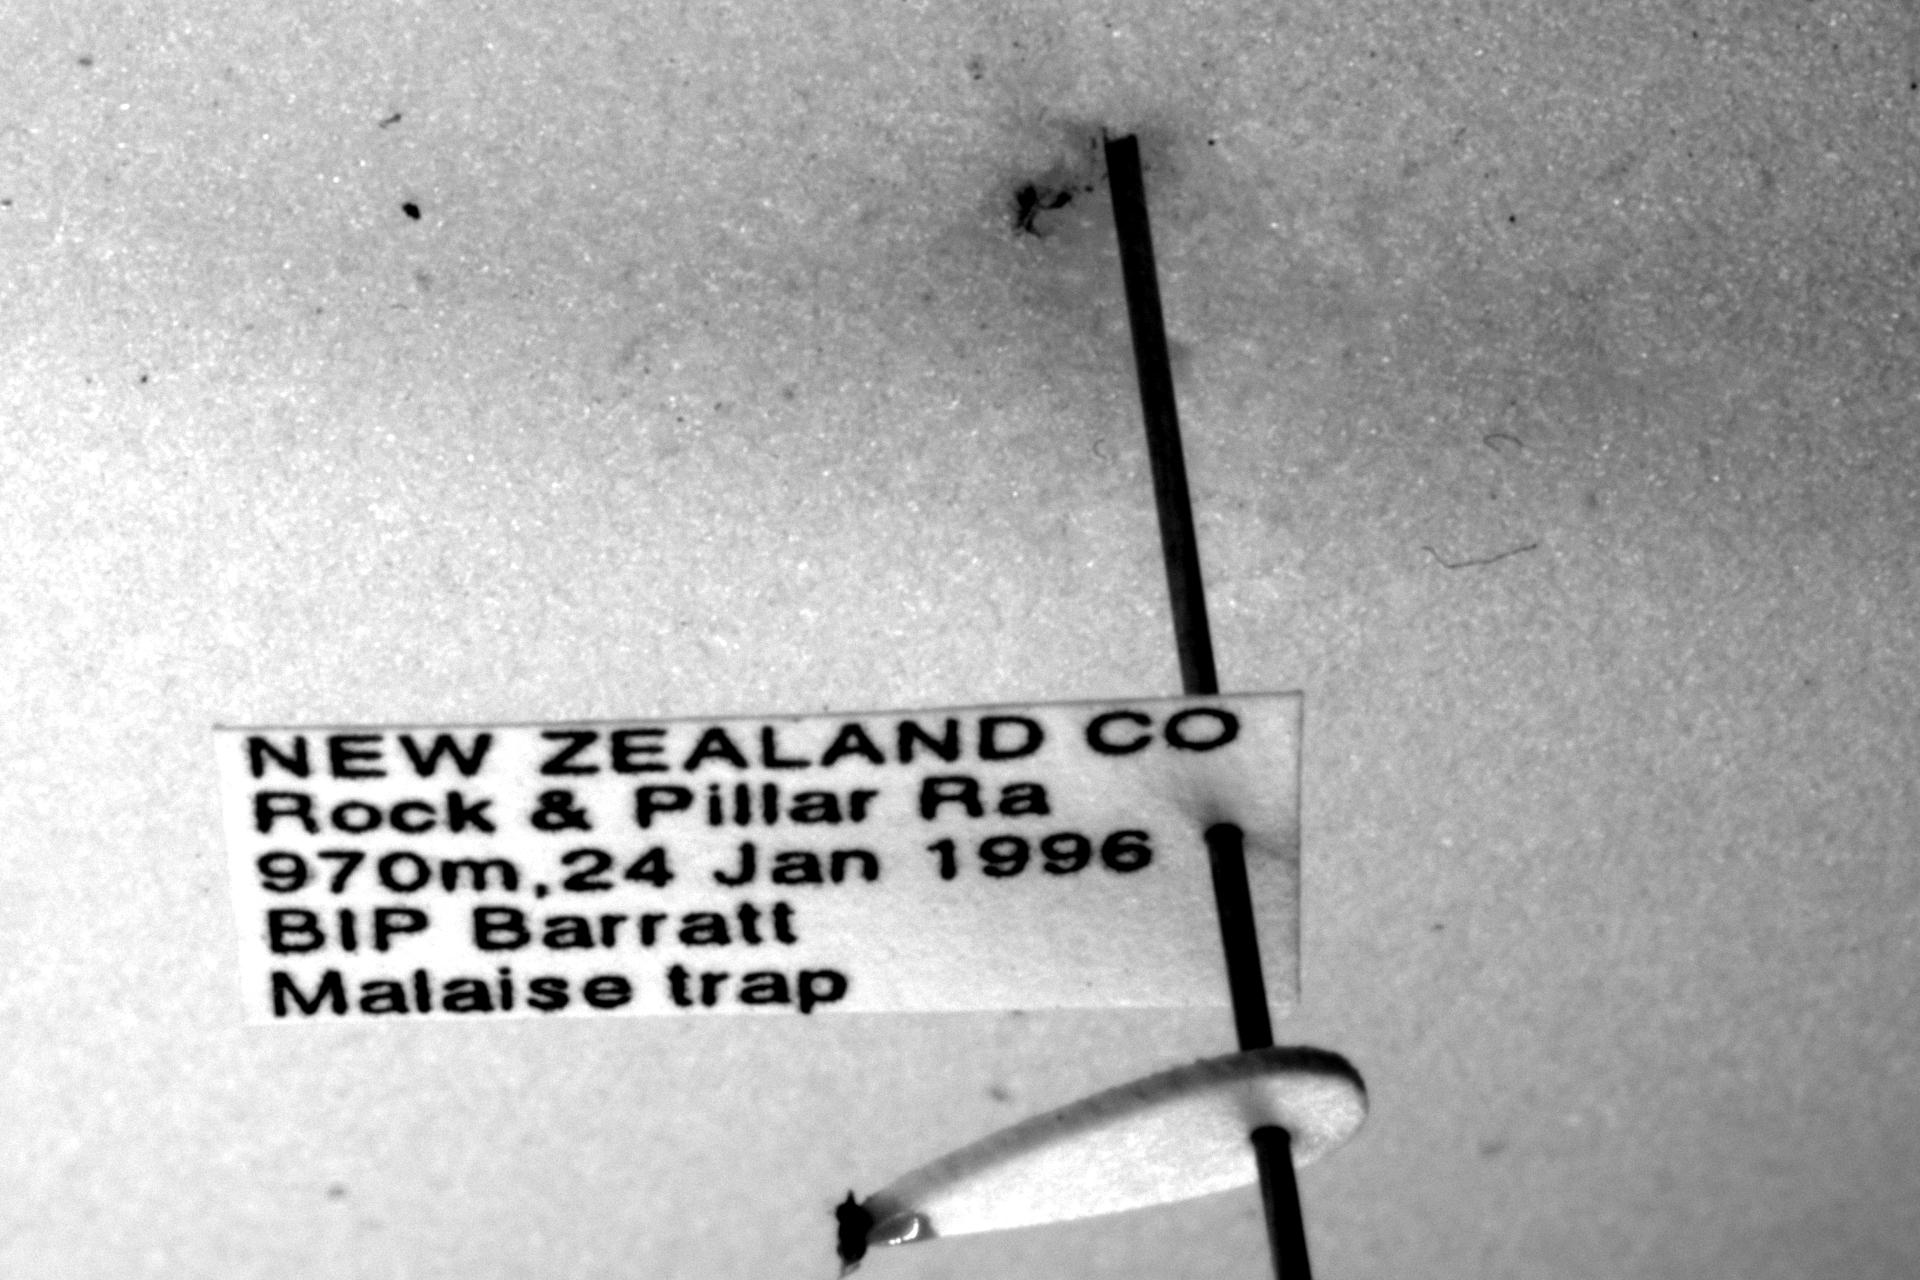typed_label: (214, 694, 1301, 1020)
